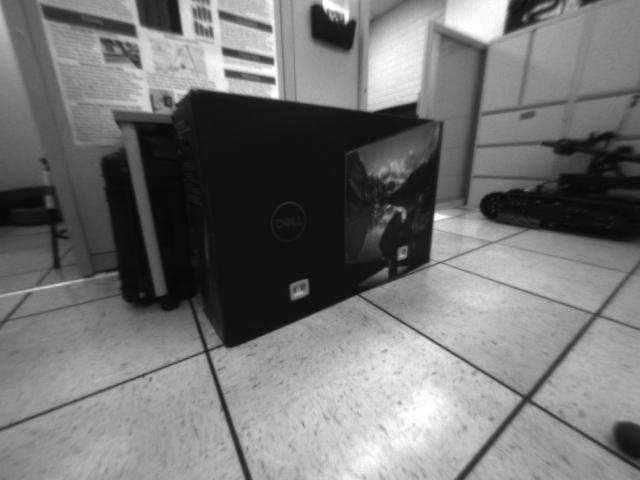dogtoy: (603, 410, 640, 468)
